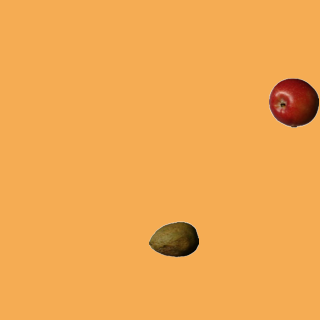Apple Braeburn: (268, 77, 318, 127)
Papaya: (148, 214, 198, 264)
